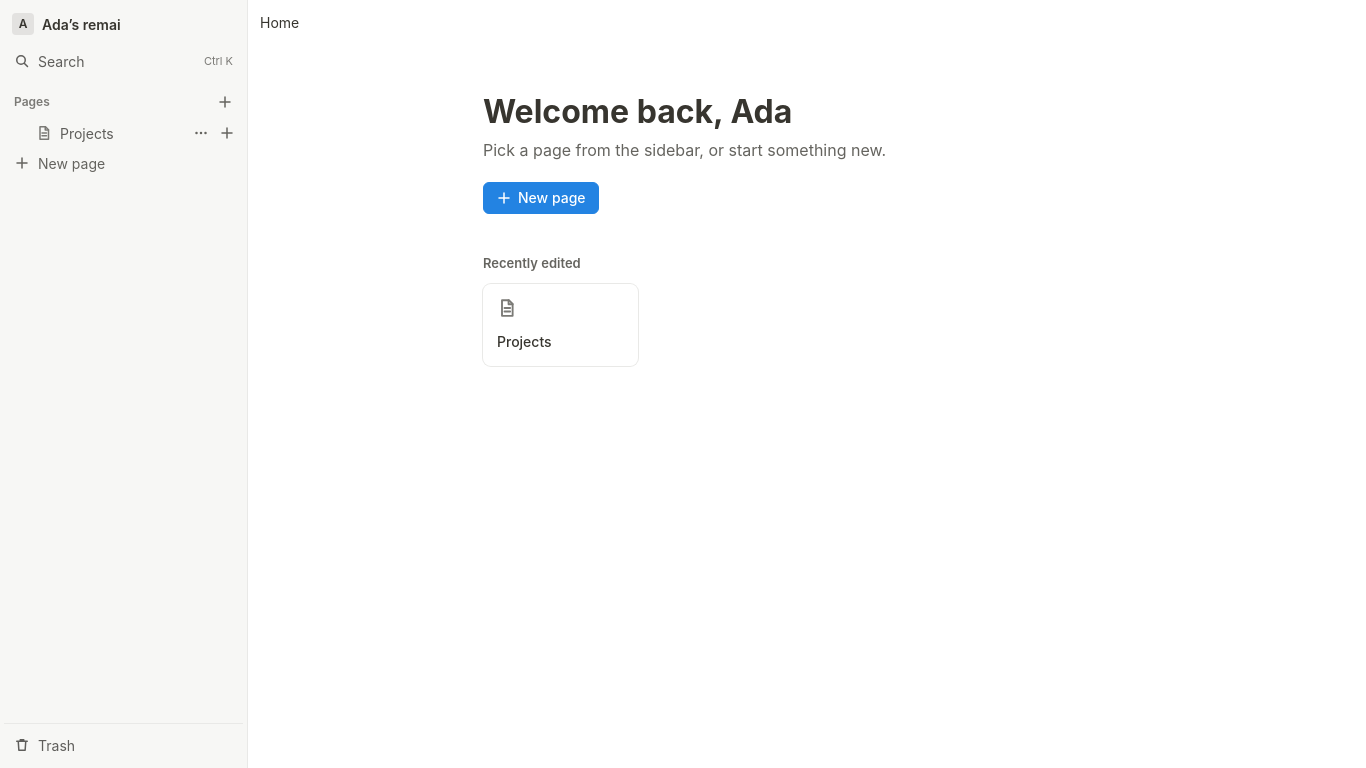
it: Sidebar › adds a subpage from the tree and expands the parent
Click the button named "Add a page inside Projects". click: [227, 133]
box: [215,121,239,145]
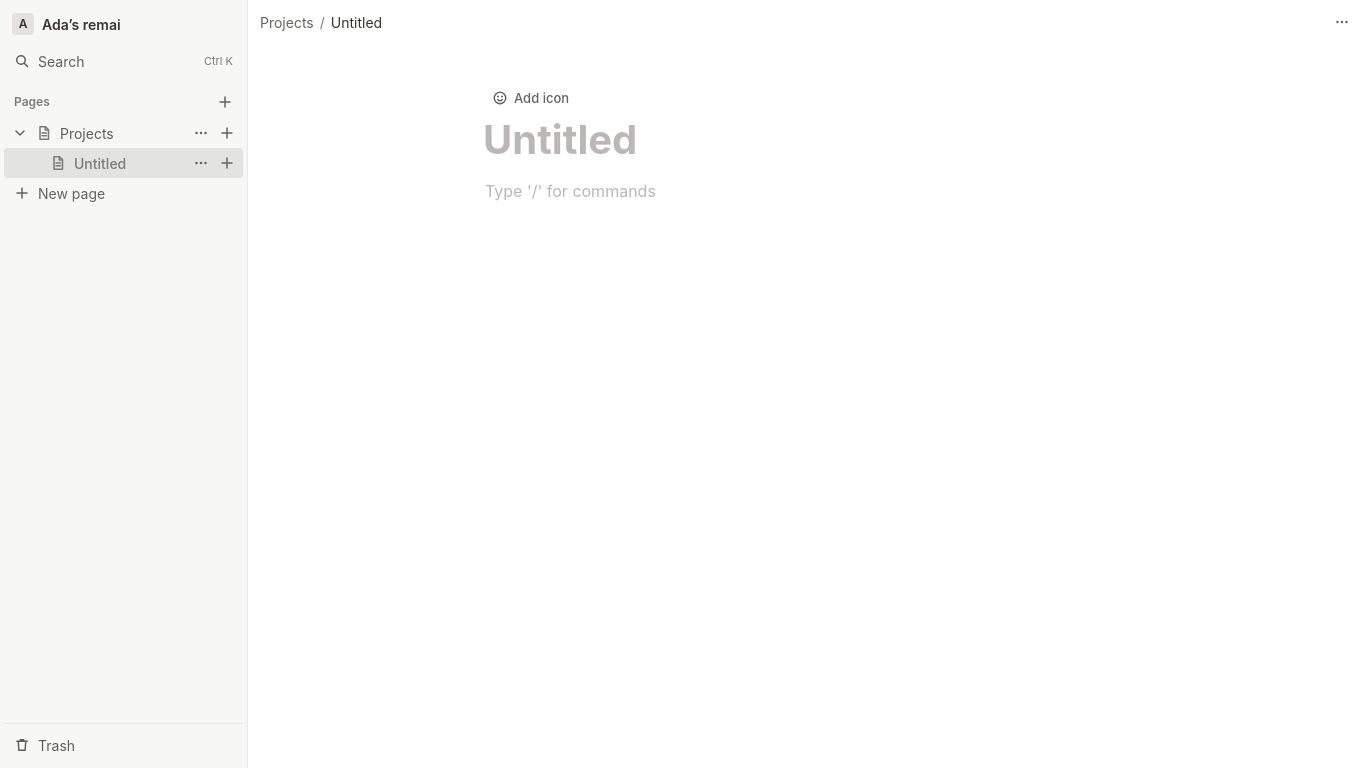
Result: the link "Untitled" is shown at [50,154,126,172]
